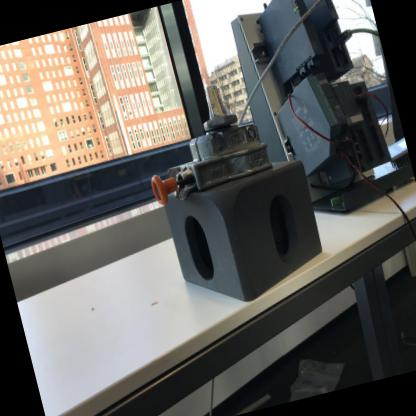CornerCasting: (156, 150, 336, 321)
Twistlock: (132, 72, 282, 214)
